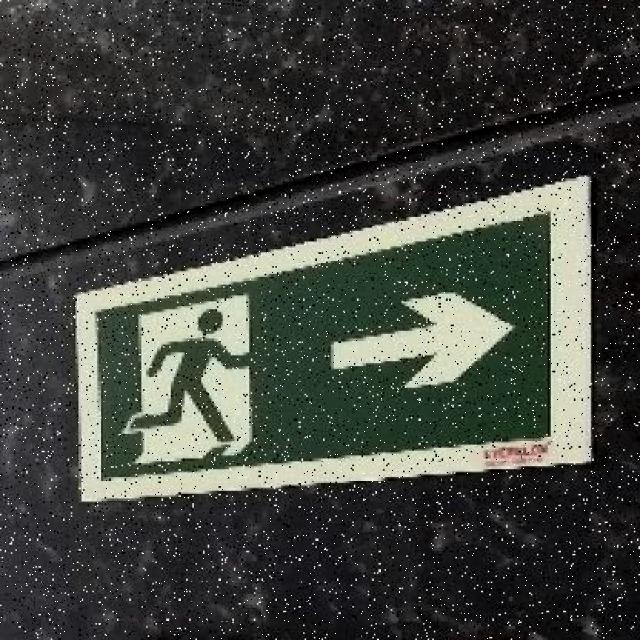emergency_exit: (72, 174, 594, 503)
